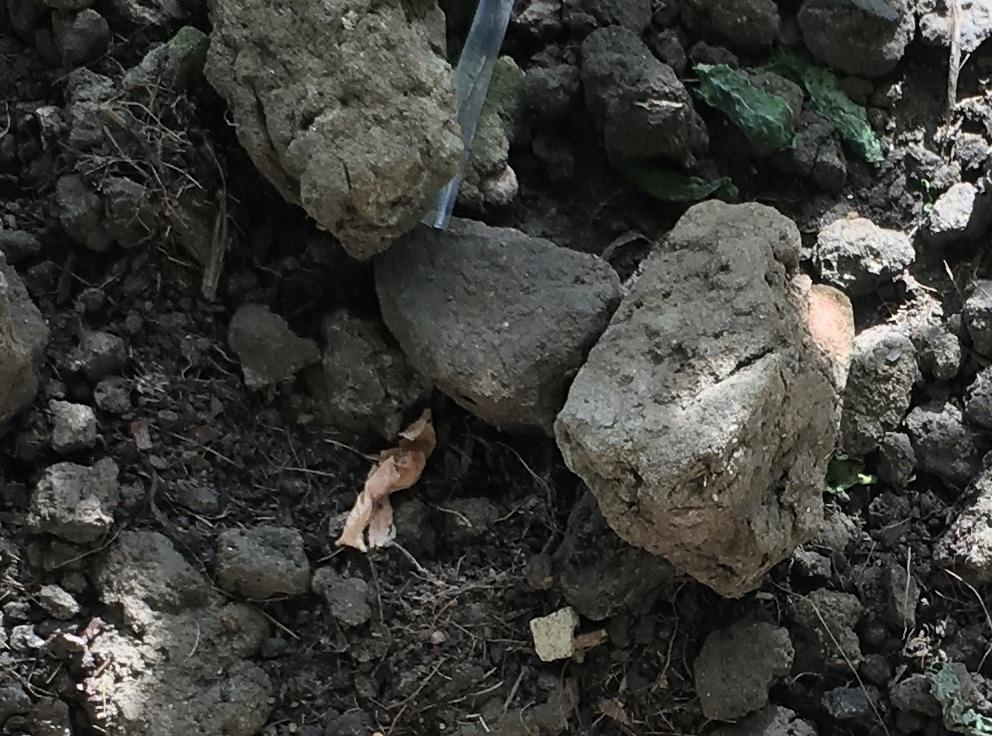block: (559, 192, 855, 596), (205, 3, 525, 263), (364, 204, 627, 435)
